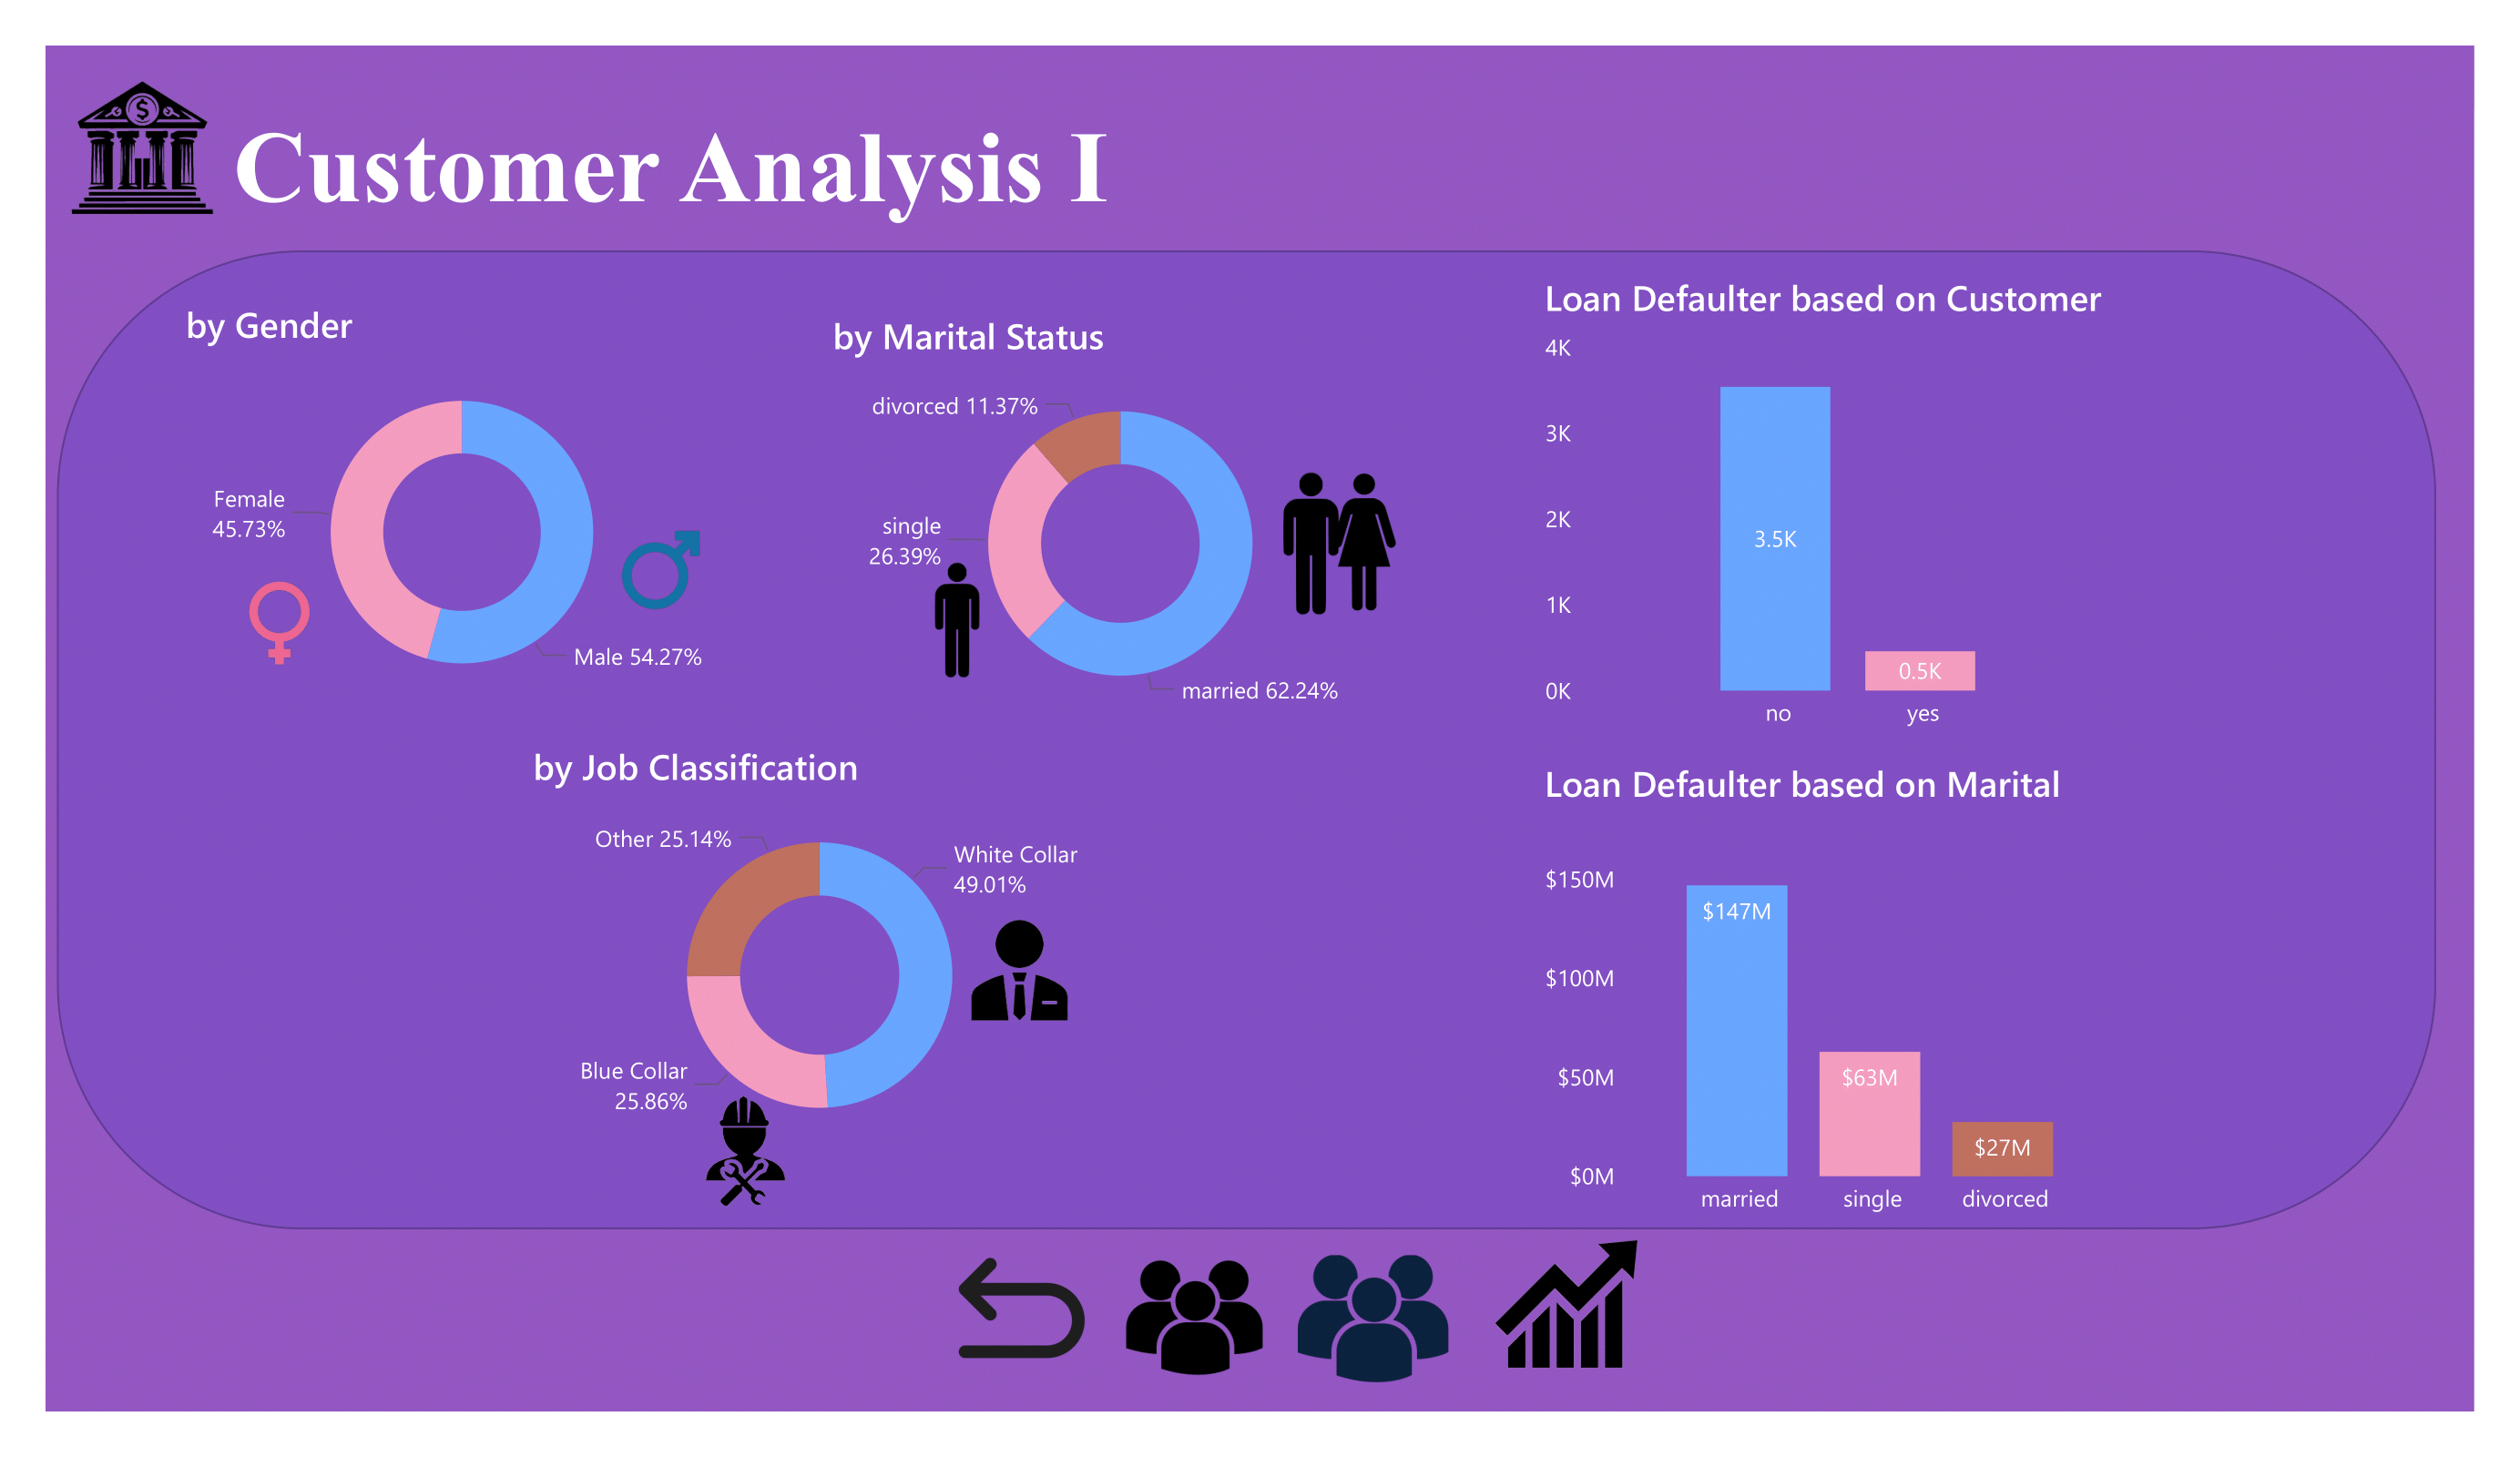

What the dashboard file says about the page in this screenshot:
{"tool":"powerbi","page":{"name":"Customer 1","canvas":[1280,720],"ordinal":3},"visuals":[{"type":"shape","box":[5.8,108,1254.2,515.5],"z":0},{"type":"donutChart","title":"by Gender","fields":{"Category":["Bank data.Gender"],"Y":["Measure.Total Balance"]},"box":[69.1,133.9,301,220.3],"z":1000},{"type":"donutChart","title":"by Marital Status","fields":{"Category":["Bank data.marital"],"Y":["Measure.Total Customers"]},"box":[410.4,139.7,312.5,220.3],"z":2000},{"type":"donutChart","title":"by Job Classification","fields":{"Category":["Bank data.Job Classification"],"Y":["Measure.Total Balance"]},"box":[252,367.2,312.5,220.3],"z":3000},{"type":"columnChart","title":"Loan Defaulter based on Customer","fields":{"Category":["Bank data.Loan Default"],"Y":["Measure.Total Customers"],"Series":["Bank data.Loan Default"]},"box":[784.8,119.5,309.6,250.6],"z":4000},{"type":"columnChart","title":"Loan Defaulter based on Marital","fields":{"Category":["Bank data.marital"],"Y":["Measure.Total Balance"]},"box":[784.8,375.8,309.6,250.6],"z":5000},{"type":"textbox","title":"Customer Analysis I","box":[93.6,33.1,485.3,118.1],"z":6000},{"type":"image","box":[465.1,620.6,99.4,89.3],"z":7000},{"type":"image","box":[633.6,626.4,132.5,89.3],"z":8000},{"type":"image","box":[740.2,617.8,125.3,93.6],"z":9000},{"type":"image","box":[102.2,272.2,43.2,63.4],"z":10000},{"type":"image","box":[295.2,249.1,57.6,54.7],"z":11000},{"type":"image","box":[633.6,211.7,66.2,100.8],"z":12000},{"type":"image","box":[666.7,220.3,56.2,83.5],"z":13000},{"type":"image","box":[446.4,266.4,67.7,73.4],"z":14000},{"type":"image","box":[311,499.7,116.6,165.6],"z":15000},{"type":"image","box":[470.9,430.6,85,113.8],"z":16000},{"type":"image","box":[0,0,102.2,108],"z":17000},{"type":"image","box":[542.9,620.6,123.8,99.4],"z":18000}]}

Visuals, with their boxes in screenshot pixels (x1, y1, x2, y2):
shape: 56/250/2436/1228
"by Gender" donutChart: 177/300/748/718
"by Marital Status" donutChart: 824/311/1417/728
"by Job Classification" donutChart: 524/742/1117/1160
"Loan Defaulter based on Customer" columnChart: 1535/272/2122/748
"Loan Defaulter based on Marital" columnChart: 1535/759/2122/1234
"Customer Analysis I" textbox: 223/108/1144/332
image: 928/1223/1117/1392
image: 1248/1234/1499/1403
image: 1450/1218/1688/1395
image: 240/562/321/682
image: 606/518/715/622
image: 1248/447/1373/638
image: 1311/464/1417/622
image: 893/551/1021/690
image: 636/993/857/1308
image: 939/862/1100/1078
image: 46/46/240/250
image: 1076/1223/1311/1411
